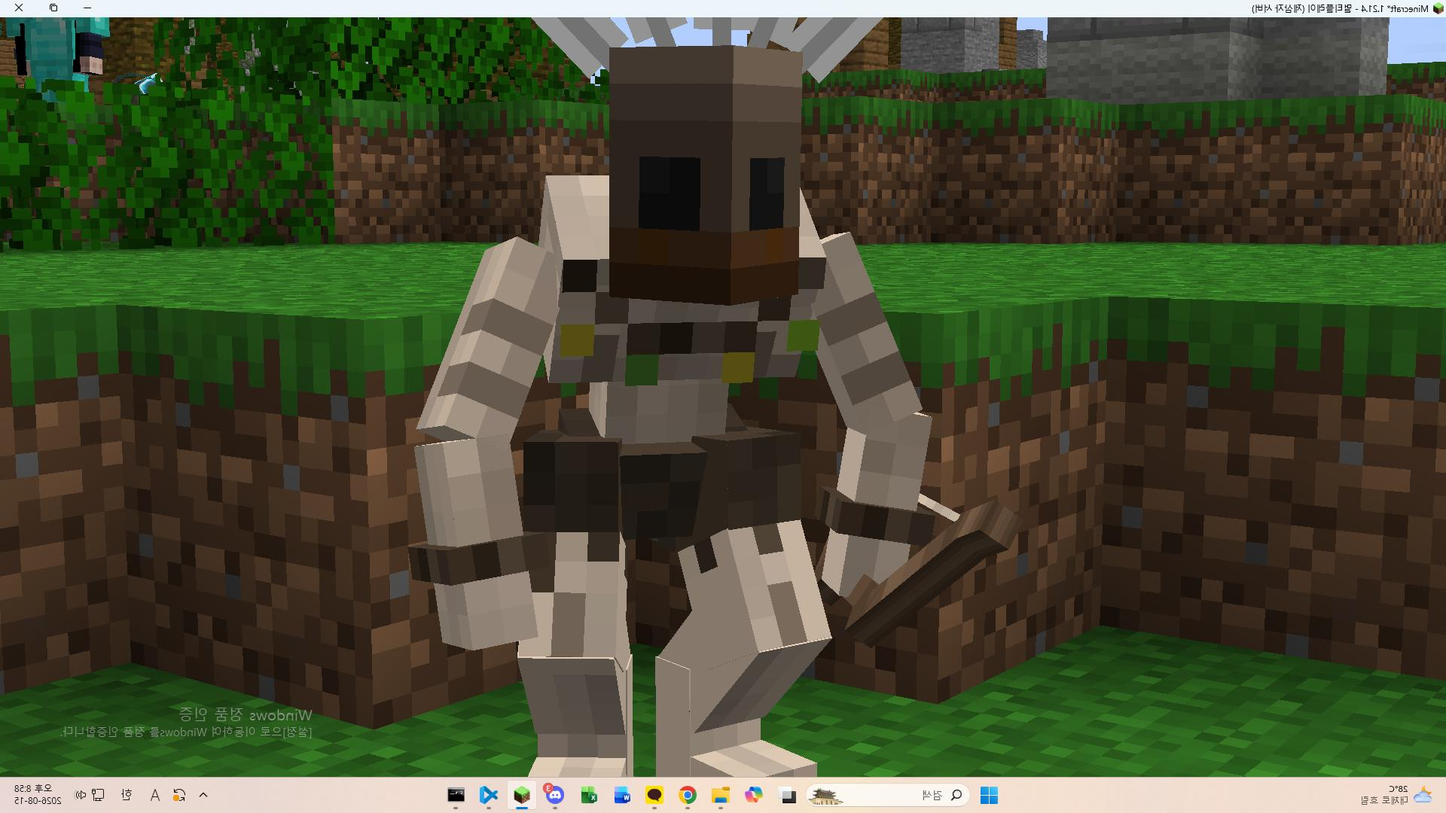bow_indian: (354, 12, 967, 772)
